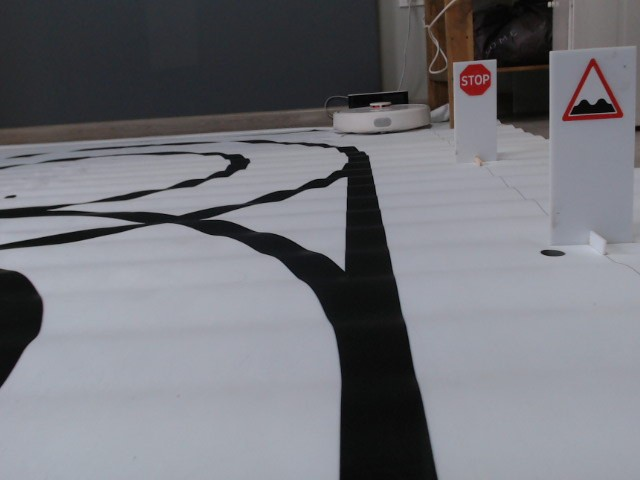Nerov: (560, 58, 625, 122)
